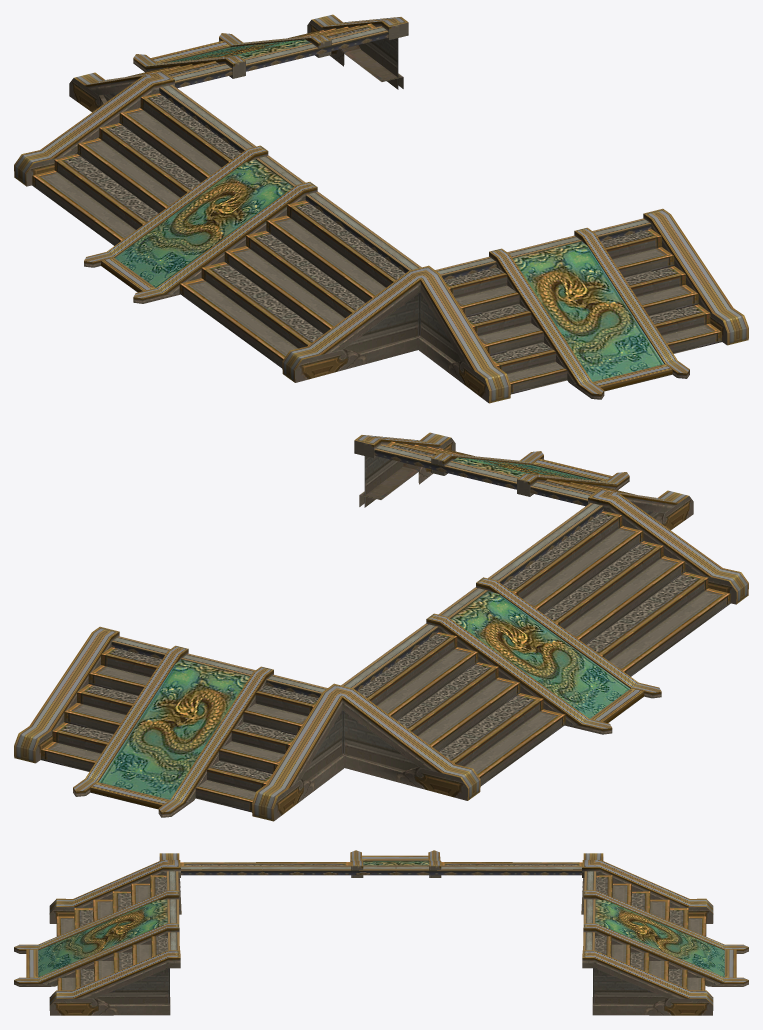
The model's file is Yland1_lt_01 Yland1.FBX.
The picture shows the model from 3 angles, top to bottom: view 1: azimuth 30°, elevation 25°; view 2: azimuth 150°, elevation 25°; view 3: azimuth 270°, elevation 25°; orthographic projection. The views are drawn at different scales.
Parts seen in each view (by area): view 1: Yland1_lt_01 Yland1; view 2: Yland1_lt_01 Yland1; view 3: Yland1_lt_01 Yland1.
Boxes of the visible parts, x1,y1,x2,y2 form: Yland1_lt_01 Yland1: (14, 14, 748, 403); Yland1_lt_01 Yland1: (14, 432, 748, 821); Yland1_lt_01 Yland1: (14, 850, 748, 1015).
Size of the model in its own units: 17.7 by 2.95 by 33.81.
